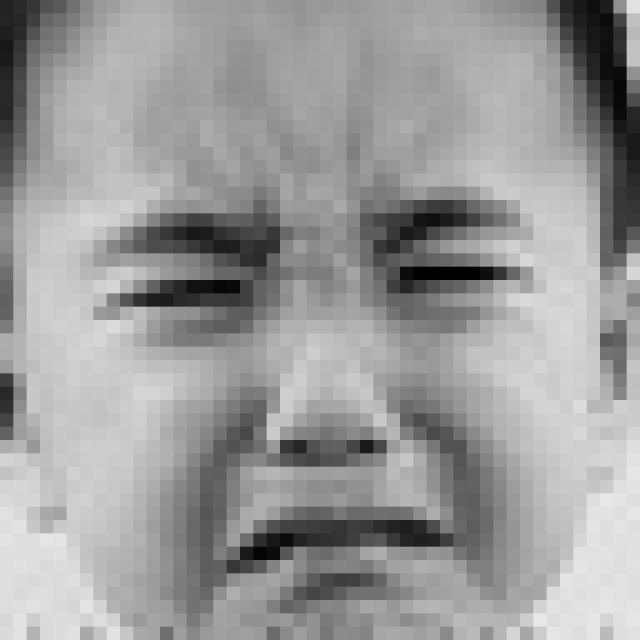sad: (73, 135, 560, 614)
